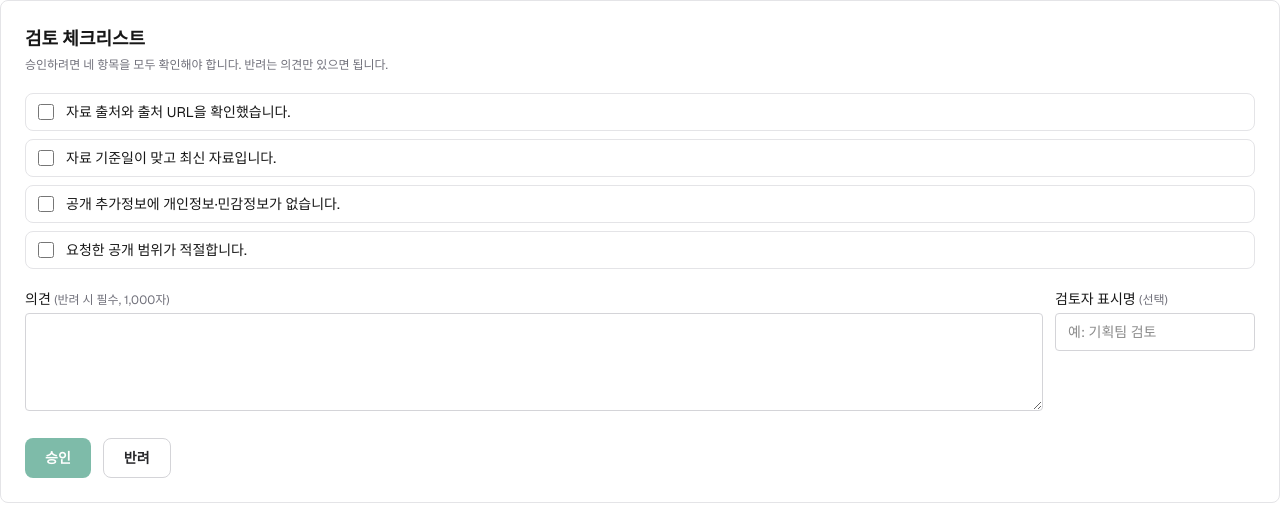
Scenario: ReviewDecisionForm › disables approve until all four checklist items are checked
Expected: the button "승인" is disabled, [25,438,91,478]
Click the checkbox labelled "자료 출처와 출처 URL을 확인했습니다." at coordinates (46, 112), box [38,104,54,120]
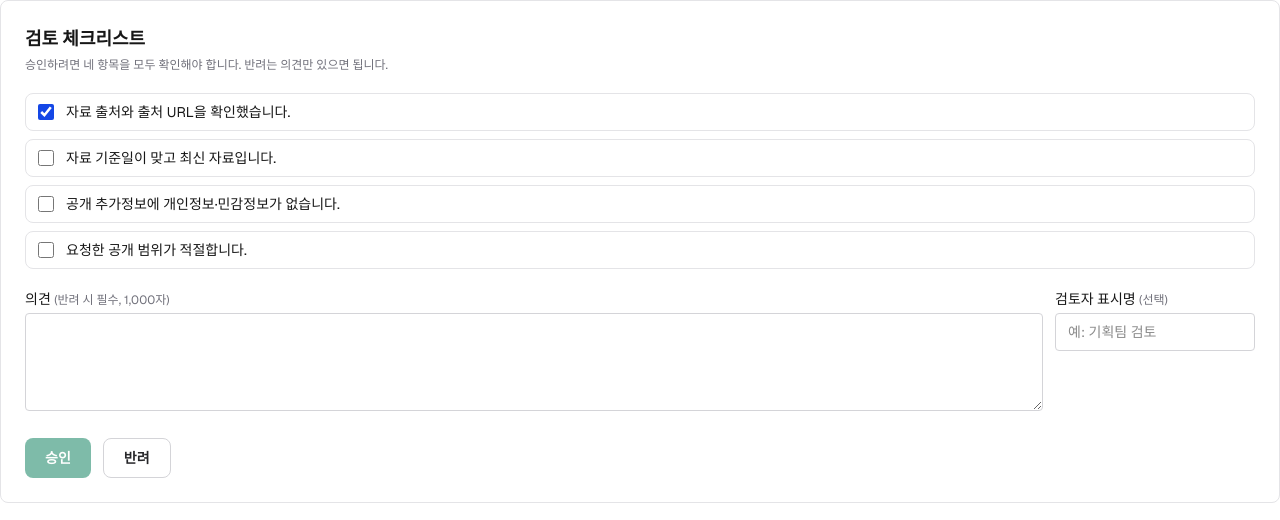
Click the checkbox labelled "자료 기준일이 맞고 최신 자료입니다." at coordinates (46, 158), box [38,150,54,166]
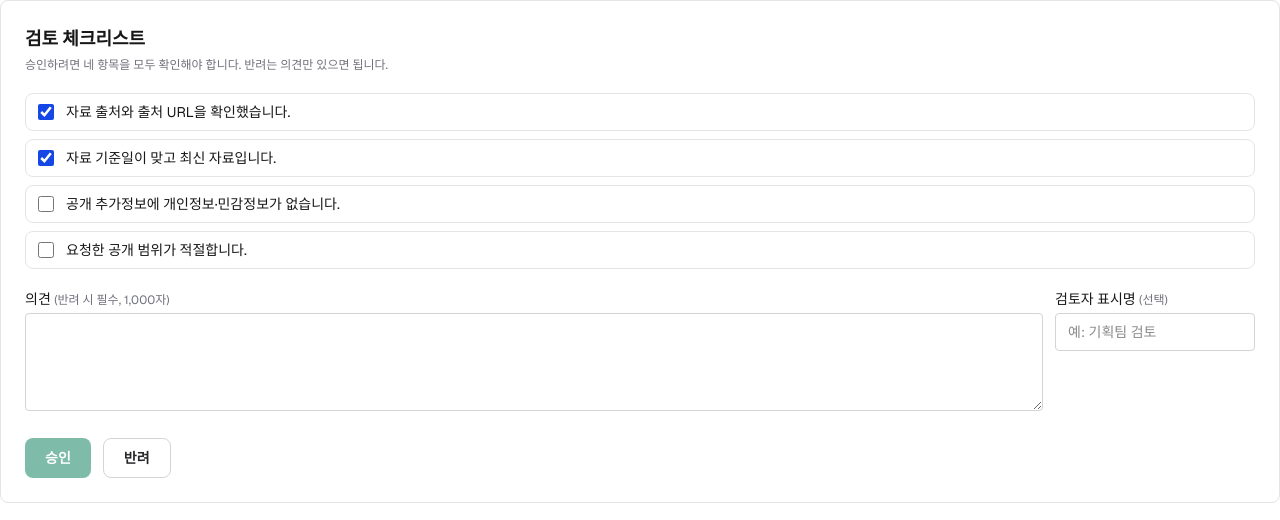
Click the checkbox labelled "공개 추가정보에 개인정보·민감정보가 없습니다." at coordinates (46, 204), box [38,196,54,212]
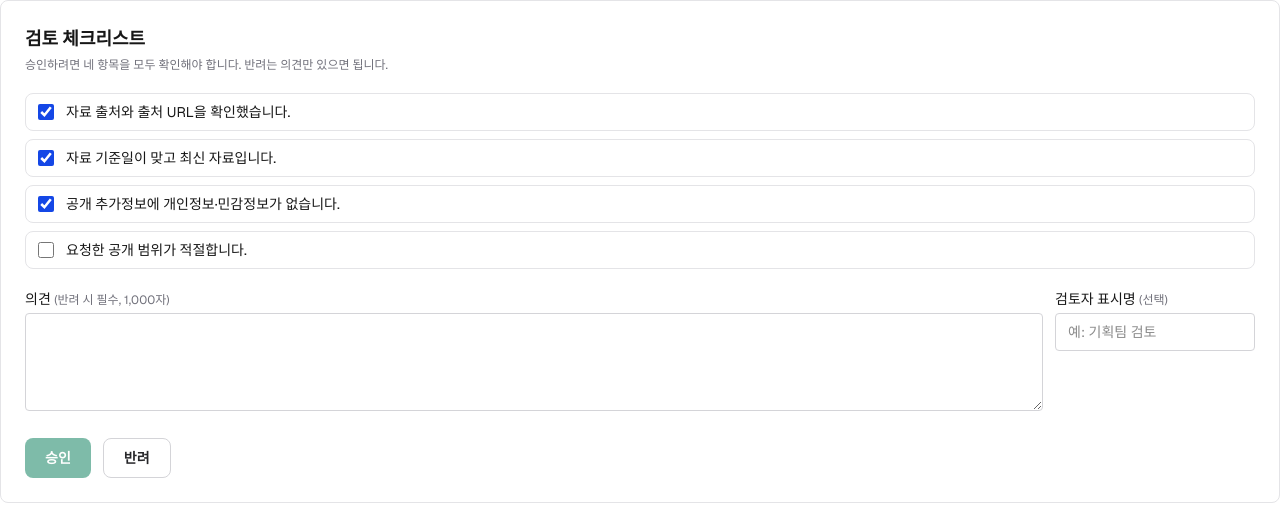
Click the checkbox labelled "요청한 공개 범위가 적절합니다." at coordinates (46, 250), box [38,242,54,258]
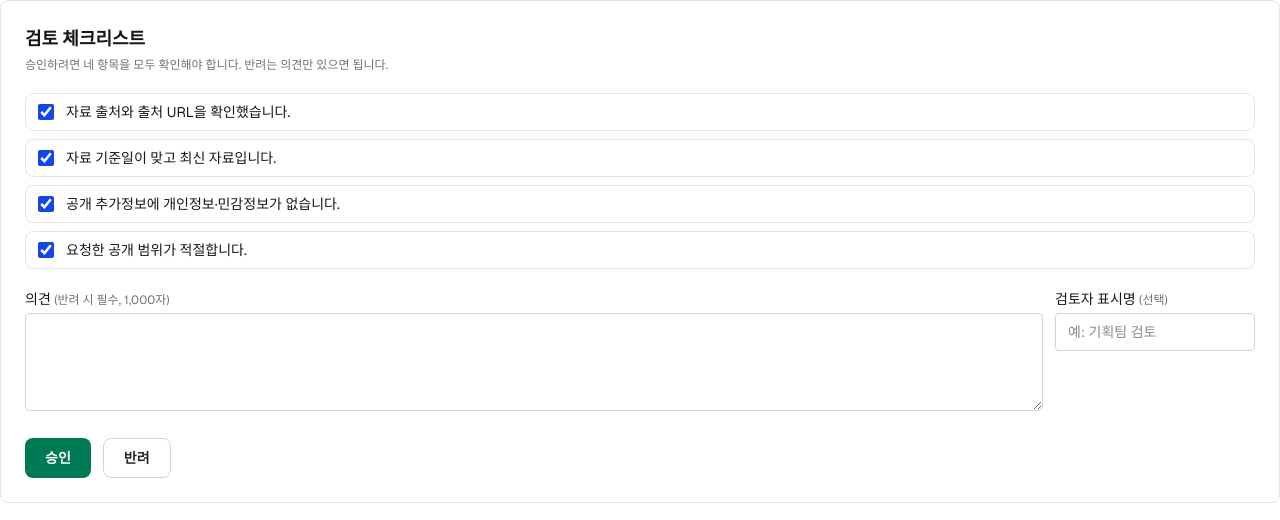
Expected: the text with id "review-approve-help" shows "승인하려면 네 항목을 모두 확인해야 합니다", [25,57,388,73]
Result: the button "승인" is enabled at [25,438,91,478]
